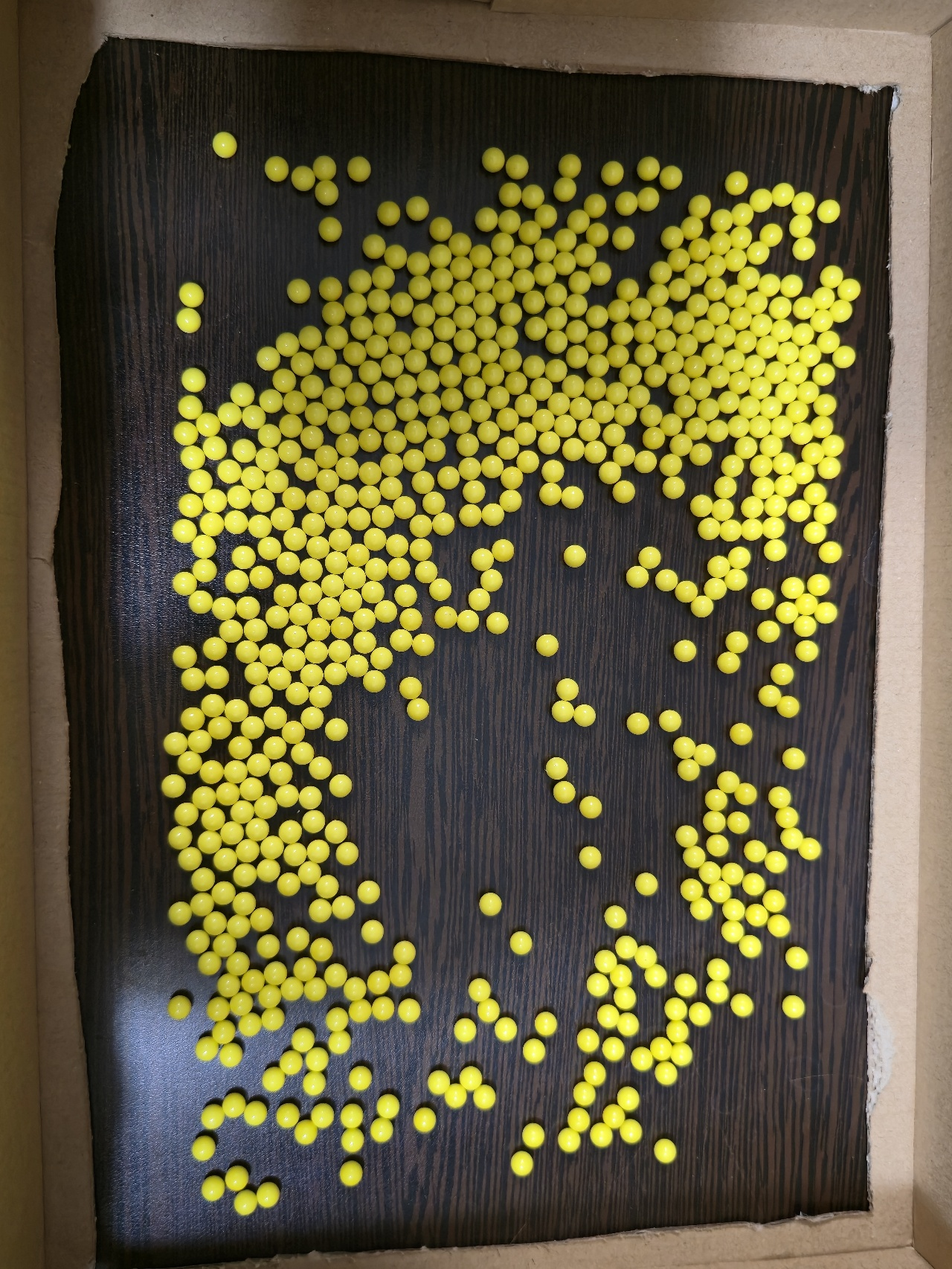yellow_bead: (184, 288, 198, 302), (193, 475, 207, 488), (223, 465, 237, 478), (478, 1090, 490, 1105), (354, 1072, 367, 1085), (311, 1053, 324, 1066), (744, 940, 757, 953), (219, 853, 232, 866), (237, 551, 250, 564), (257, 494, 270, 507), (233, 491, 246, 504), (340, 489, 353, 502), (247, 472, 260, 485), (261, 453, 274, 466), (223, 408, 236, 421), (184, 401, 197, 414), (236, 388, 249, 401), (516, 1157, 528, 1171), (317, 1109, 329, 1123), (433, 1076, 445, 1090), (528, 1044, 540, 1058), (608, 1042, 620, 1056), (403, 1004, 415, 1018), (802, 843, 816, 855), (194, 596, 208, 608), (178, 524, 192, 536), (208, 495, 222, 507), (208, 442, 222, 454), (563, 1134, 575, 1147), (382, 1100, 394, 1113), (465, 1072, 477, 1085), (297, 1034, 309, 1047), (622, 1018, 634, 1031), (788, 1000, 800, 1013), (711, 986, 724, 998), (680, 979, 692, 992), (592, 979, 604, 992), (330, 969, 342, 982), (363, 886, 375, 899), (747, 878, 760, 890), (197, 873, 210, 885), (184, 852, 196, 865), (312, 845, 324, 858), (174, 832, 187, 844), (284, 826, 297, 838), (167, 780, 180, 792), (274, 768, 287, 780), (253, 759, 266, 771), (268, 742, 281, 754), (269, 712, 282, 724), (211, 671, 223, 684), (250, 667, 263, 679), (310, 646, 323, 658), (787, 582, 800, 594), (231, 575, 243, 588), (198, 565, 211, 577), (254, 520, 266, 533), (205, 518, 218, 530), (329, 511, 342, 523), (187, 451, 200, 463), (263, 430, 276, 442), (179, 427, 191, 440), (837, 351, 850, 363), (816, 315, 829, 327), (794, 220, 807, 232), (660, 1144, 671, 1158), (460, 1024, 471, 1038), (603, 1010, 614, 1024), (778, 188, 789, 202), (670, 1003, 682, 1015), (349, 983, 361, 995), (650, 971, 662, 983), (791, 952, 803, 964), (640, 951, 652, 963), (515, 937, 527, 949), (315, 905, 327, 917), (769, 895, 781, 907), (217, 887, 229, 899), (686, 884, 698, 896), (321, 881, 333, 893), (289, 849, 301, 861), (242, 845, 254, 857), (266, 841, 278, 853), (308, 815, 320, 827), (281, 790, 293, 802), (178, 651, 190, 663), (265, 649, 277, 661), (225, 625, 237, 637), (358, 614, 370, 626), (295, 608, 307, 620), (305, 564, 317, 576), (770, 544, 782, 556), (198, 540, 210, 552), (289, 533, 301, 545), (307, 518, 319, 530), (428, 497, 440, 509), (385, 482, 397, 494), (271, 475, 283, 487), (300, 463, 312, 475), (727, 460, 739, 472), (740, 442, 752, 454), (827, 440, 839, 452), (306, 431, 318, 443), (483, 426, 495, 438), (265, 395, 277, 407), (797, 197, 809, 209), (528, 1128, 539, 1141), (623, 1092, 634, 1105), (637, 1053, 648, 1066), (583, 1034, 594, 1047), (695, 1008, 706, 1021), (621, 941, 632, 954), (367, 925, 378, 938), (226, 827, 239, 838), (245, 783, 258, 794), (330, 724, 343, 735), (304, 588, 317, 599), (812, 579, 825, 590), (334, 534, 347, 545), (808, 527, 821, 538), (276, 513, 289, 524), (321, 475, 334, 486), (817, 369, 830, 380), (823, 205, 834, 218), (756, 194, 767, 207), (786, 834, 800, 844), (249, 624, 263, 634), (190, 373, 200, 387), (268, 1075, 279, 1087), (661, 1068, 672, 1080), (286, 1059, 298, 1070), (225, 1051, 237, 1062), (541, 1018, 552, 1030), (267, 1015, 279, 1026), (331, 1015, 343, 1026), (474, 984, 485, 996), (286, 983, 297, 995), (232, 958, 244, 969), (600, 955, 611, 967), (263, 940, 274, 952), (774, 920, 785, 932), (610, 911, 621, 923), (175, 907, 186, 919), (338, 901, 349, 913), (485, 898, 496, 910), (238, 897, 250, 908), (641, 878, 652, 890), (239, 870, 251, 881), (728, 868, 739, 880), (771, 856, 782, 868), (750, 846, 762, 857), (330, 826, 341, 838), (236, 806, 248, 817), (260, 801, 272, 812), (774, 792, 786, 803), (335, 780, 347, 791), (230, 765, 241, 777), (551, 762, 562, 774), (315, 762, 326, 774), (297, 748, 309, 759), (679, 742, 690, 754), (306, 713, 318, 724), (579, 710, 591, 721), (231, 704, 242, 716), (315, 691, 327, 702), (255, 690, 267, 701), (352, 660, 363, 672), (376, 652, 387, 664), (358, 637, 370, 648), (289, 631, 301, 642), (763, 626, 775, 637), (271, 611, 283, 622), (323, 603, 335, 614), (757, 594, 769, 605), (327, 580, 339, 591), (255, 571, 267, 582), (330, 557, 342, 568), (477, 554, 489, 565), (825, 547, 837, 558), (369, 533, 381, 544), (353, 513, 365, 524), (377, 510, 389, 521), (488, 509, 499, 521), (793, 505, 805, 516), (747, 502, 759, 513), (399, 501, 410, 513), (469, 486, 480, 498), (364, 467, 376, 478), (464, 463, 475, 475), (756, 460, 767, 472), (409, 454, 420, 466), (283, 446, 295, 457), (239, 445, 251, 456), (765, 440, 777, 451), (544, 437, 555, 449), (608, 429, 620, 440), (816, 422, 828, 433), (248, 411, 260, 422), (791, 406, 803, 417), (521, 399, 532, 411), (780, 387, 792, 398), (792, 367, 803, 379), (771, 367, 782, 379), (297, 358, 308, 370), (783, 347, 794, 359), (282, 339, 294, 350), (823, 336, 834, 348), (835, 306, 847, 317), (774, 302, 786, 313), (817, 292, 829, 303), (843, 284, 855, 295), (786, 280, 797, 292), (766, 229, 777, 241), (199, 791, 209, 804), (819, 508, 832, 518), (223, 981, 234, 992), (713, 964, 724, 975), (209, 918, 220, 929), (728, 904, 739, 915), (263, 865, 274, 876), (585, 852, 596, 863), (713, 840, 724, 851), (681, 831, 692, 842), (699, 749, 710, 760), (633, 718, 644, 729), (557, 706, 568, 717), (765, 690, 776, 701), (292, 688, 303, 699), (562, 684, 573, 695), (542, 640, 553, 651), (732, 637, 743, 648), (800, 621, 811, 632), (492, 617, 503, 628), (463, 615, 474, 626), (681, 586, 692, 597), (710, 583, 721, 594), (661, 575, 672, 586), (731, 574, 742, 585), (632, 571, 643, 582), (734, 552, 745, 563), (747, 524, 758, 535), (704, 523, 715, 534), (185, 499, 196, 510), (567, 492, 578, 503), (364, 491, 375, 502), (669, 482, 680, 493), (443, 472, 454, 483), (605, 467, 616, 478), (342, 463, 353, 474), (386, 459, 397, 470), (640, 456, 651, 467), (619, 449, 630, 460), (503, 443, 514, 454), (390, 436, 401, 447), (797, 428, 808, 439), (520, 428, 531, 439), (584, 424, 595, 435), (777, 421, 788, 432), (312, 408, 323, 419), (598, 406, 609, 417), (713, 371, 724, 382), (336, 370, 347, 381), (263, 353, 274, 364), (777, 325, 788, 336), (374, 295, 385, 306), (764, 280, 775, 291), (826, 271, 837, 282), (309, 983, 321, 993), (399, 946, 409, 958), (292, 933, 304, 943), (727, 928, 739, 938), (695, 905, 707, 915), (196, 899, 208, 909), (283, 878, 295, 888), (341, 847, 353, 857), (207, 699, 219, 709), (368, 675, 380, 685), (187, 673, 199, 683), (274, 672, 286, 682), (288, 654, 300, 664), (802, 646, 814, 656), (334, 646, 346, 656), (242, 646, 254, 656), (395, 634, 407, 644), (820, 608, 832, 618), (349, 572, 361, 582), (391, 540, 403, 550), (415, 520, 427, 530), (770, 501, 782, 511), (288, 492, 300, 502), (418, 476, 428, 488), (823, 463, 835, 473), (569, 443, 579, 455), (463, 439, 473, 451), (576, 402, 586, 414), (724, 396, 734, 408), (278, 375, 290, 385), (485, 1005, 494, 1018), (203, 837, 216, 846), (169, 738, 182, 747), (193, 736, 206, 745), (246, 722, 259, 731), (218, 605, 231, 614), (186, 314, 195, 327), (222, 139, 231, 152), (178, 582, 192, 590), (347, 1137, 358, 1147), (596, 1132, 607, 1142), (677, 1050, 687, 1061), (245, 1020, 255, 1031), (620, 993, 631, 1003), (299, 963, 309, 974), (193, 936, 204, 946), (715, 887, 726, 897), (705, 867, 715, 878), (689, 852, 700, 862), (585, 802, 596, 812), (724, 777, 734, 788), (789, 754, 800, 764), (665, 716, 676, 726), (405, 682, 416, 692), (777, 669, 788, 679), (680, 646, 691, 656), (697, 601, 708, 611), (435, 584, 446, 594), (486, 575, 497, 585), (421, 566, 432, 576), (713, 562, 724, 572), (727, 525, 737, 536), (768, 523, 779, 533), (718, 504, 728, 515), (505, 495, 516, 505), (545, 488, 556, 498), (758, 483, 769, 493), (720, 482, 731, 492), (506, 472, 517, 482), (488, 461, 498, 472), (666, 460, 677, 470), (523, 456, 533, 467), (591, 446, 601, 457), (429, 444, 440, 454), (692, 423, 702, 434), (733, 421, 744, 431), (287, 420, 297, 431), (538, 414, 549, 424), (744, 402, 755, 412), (425, 399, 435, 410), (555, 398, 565, 409), (803, 387, 814, 397), (568, 381, 579, 391), (411, 355, 421, 366), (305, 333, 316, 343), (798, 329, 808, 340), (460, 311, 471, 321), (480, 298, 490, 309), (675, 284, 685, 295), (736, 232, 747, 242), (738, 208, 748, 219), (198, 1146, 210, 1155), (576, 1114, 585, 1126), (346, 1113, 358, 1122), (239, 998, 248, 1010), (618, 970, 627, 982), (303, 870, 315, 879), (251, 826, 263, 835), (304, 795, 316, 804), (184, 756, 196, 765), (235, 742, 247, 751), (230, 519, 242, 528), (547, 466, 559, 475), (412, 425, 421, 437), (765, 341, 774, 353), (208, 643, 221, 651), (282, 561, 295, 569), (263, 546, 276, 554), (379, 1003, 389, 1013), (270, 968, 280, 978), (233, 922, 243, 932), (734, 817, 744, 827), (710, 817, 720, 827), (438, 518, 448, 528), (697, 501, 707, 511), (781, 481, 791, 491), (676, 440, 686, 450), (334, 417, 344, 427), (647, 410, 657, 420), (403, 404, 413, 414), (320, 352, 330, 362), (481, 321, 491, 331), (572, 300, 582, 310), (351, 299, 361, 309), (644, 195, 654, 205), (222, 940, 231, 951), (257, 913, 268, 922), (181, 808, 192, 817), (808, 449, 819, 458), (714, 425, 723, 436), (756, 421, 765, 432), (562, 420, 571, 431), (636, 391, 645, 402), (538, 383, 547, 394), (309, 381, 318, 392), (402, 380, 411, 391), (425, 376, 434, 387), (389, 360, 398, 371), (438, 347, 447, 358), (419, 332, 428, 343), (721, 330, 730, 341), (701, 325, 710, 336), (693, 300, 704, 309), (753, 297, 762, 308), (733, 290, 742, 301), (745, 272, 754, 283), (298, 174, 309, 183), (579, 1091, 591, 1099), (592, 1068, 600, 1080), (500, 1023, 512, 1031), (754, 910, 762, 922), (207, 813, 219, 821), (214, 722, 226, 730), (306, 673, 318, 681), (723, 658, 735, 666), (280, 589, 292, 597), (312, 545, 324, 553), (204, 958, 214, 967), (785, 813, 794, 823), (206, 765, 216, 774), (684, 765, 694, 774), (441, 611, 451, 620), (803, 599, 812, 609), (416, 544, 425, 554), (620, 486, 629, 496), (698, 449, 707, 459), (457, 417, 466, 427), (329, 393, 339, 402), (495, 392, 504, 402), (614, 388, 623, 398), (730, 355, 739, 365), (486, 345, 495, 355), (442, 324, 451, 334), (358, 322, 367, 332), (659, 312, 668, 322), (715, 308, 724, 318), (637, 303, 646, 313), (295, 286, 304, 296), (733, 254, 742, 264), (437, 250, 446, 260), (620, 232, 629, 242), (718, 215, 727, 225), (271, 164, 281, 173), (395, 971, 406, 979), (744, 788, 752, 799), (287, 727, 298, 735), (394, 563, 405, 571), (353, 549, 364, 557), (498, 544, 509, 552), (465, 510, 476, 518), (321, 451, 332, 459), (623, 408, 631, 419), (289, 399, 300, 407), (743, 336, 751, 347), (334, 331, 342, 342), (554, 313, 562, 324), (312, 499, 324, 506), (675, 1028, 684, 1037), (785, 701, 794, 710), (245, 605, 254, 614), (675, 379, 684, 388), (652, 370, 661, 379), (596, 268, 605, 277), (506, 216, 515, 225), (696, 201, 705, 210), (379, 1127, 387, 1137), (267, 992, 275, 1002), (313, 623, 323, 631), (406, 614, 416, 622), (570, 554, 580, 562), (344, 439, 352, 449), (436, 421, 444, 431), (205, 418, 213, 428), (382, 415, 390, 425), (478, 405, 486, 415), (381, 387, 389, 397), (698, 383, 706, 393), (628, 370, 636, 380), (554, 365, 562, 375), (710, 349, 718, 359), (663, 335, 671, 345), (594, 311, 602, 321), (441, 298, 449, 308), (358, 1007, 365, 1018), (222, 788, 233, 795), (782, 611, 793, 618), (474, 598, 485, 605), (400, 594, 411, 601), (644, 556, 655, 563), (707, 404, 714, 415), (369, 366, 376, 377), (671, 356, 678, 367), (576, 351, 583, 362), (482, 274, 489, 285), (694, 269, 701, 280), (319, 943, 327, 952), (380, 610, 392, 616), (370, 568, 382, 574), (669, 420, 677, 429), (737, 377, 745, 386), (531, 362, 539, 371), (595, 361, 603, 370), (533, 323, 541, 332), (681, 317, 689, 326), (738, 313, 746, 322), (509, 309, 517, 318), (655, 290, 663, 299), (522, 275, 530, 284), (440, 275, 448, 284), (658, 267, 666, 276), (178, 1003, 185, 1013), (338, 622, 348, 629), (464, 335, 471, 345), (422, 309, 429, 319), (401, 299, 408, 309), (418, 282, 425, 292), (521, 251, 528, 261), (584, 250, 591, 260), (671, 232, 678, 242), (577, 216, 584, 226), (736, 999, 747, 1005), (556, 336, 562, 347), (739, 729, 747, 737), (371, 590, 379, 598), (593, 383, 601, 391), (504, 333, 512, 341), (358, 277, 366, 285), (610, 168, 618, 176), (267, 1189, 274, 1198), (644, 350, 651, 359), (555, 289, 562, 298), (578, 277, 585, 286), (382, 272, 389, 281), (501, 263, 508, 272), (689, 222, 698, 229), (625, 198, 632, 207), (563, 184, 570, 193), (670, 172, 677, 181), (492, 155, 499, 164), (378, 976, 383, 988), (685, 401, 691, 411), (376, 341, 382, 351), (686, 339, 692, 349), (622, 328, 628, 338), (576, 326, 582, 336), (736, 177, 742, 187), (221, 1030, 228, 1038), (349, 599, 357, 606), (383, 321, 390, 329), (714, 284, 721, 292), (501, 241, 509, 248), (485, 215, 492, 223), (530, 192, 538, 199), (324, 190, 332, 197), (332, 672, 341, 678), (451, 395, 457, 404), (474, 383, 480, 392), (544, 268, 550, 277), (715, 261, 721, 270), (565, 235, 571, 244), (508, 414, 513, 424), (565, 258, 570, 268), (368, 435, 375, 442), (653, 433, 660, 440), (544, 247, 551, 254), (647, 164, 654, 171), (349, 1171, 357, 1177), (629, 1125, 637, 1131), (313, 1079, 321, 1085), (334, 1038, 346, 1042), (510, 355, 516, 363), (464, 288, 470, 296), (395, 252, 401, 260), (450, 373, 457, 379), (399, 340, 405, 347), (645, 327, 651, 334), (418, 259, 424, 266), (373, 242, 379, 249), (416, 205, 422, 212), (358, 166, 364, 173), (614, 1114, 619, 1122), (361, 414, 366, 422), (618, 351, 623, 359), (619, 306, 624, 314), (517, 379, 521, 388), (720, 240, 726, 246), (323, 165, 329, 171), (217, 1006, 222, 1013), (357, 390, 362, 397), (696, 362, 701, 369), (534, 298, 539, 305), (628, 285, 633, 292), (679, 254, 684, 261), (546, 212, 551, 219), (253, 976, 257, 984), (471, 361, 476, 367), (332, 311, 338, 316), (460, 242, 466, 247), (329, 227, 335, 232), (596, 201, 600, 208), (518, 163, 522, 170), (716, 800, 721, 805), (494, 373, 499, 378), (597, 340, 602, 345), (330, 286, 335, 291), (462, 266, 467, 271), (564, 793, 570, 797), (572, 162, 576, 168), (663, 1047, 666, 1054), (505, 287, 508, 294), (425, 643, 429, 648), (511, 192, 516, 196), (240, 1198, 246, 1201), (356, 350, 359, 356), (599, 231, 602, 237), (532, 230, 536, 234), (248, 1201, 251, 1206), (418, 710, 423, 713), (702, 248, 705, 253), (443, 227, 446, 232), (798, 305, 800, 312), (201, 1046, 207, 1048), (808, 350, 814, 352), (760, 320, 766, 322), (483, 253, 486, 257), (803, 243, 809, 245), (208, 1113, 213, 1115), (428, 1117, 431, 1120), (819, 406, 821, 409), (805, 351, 808, 353), (390, 212, 392, 215), (814, 489, 819, 490), (800, 468, 805, 469), (783, 458, 787, 459), (824, 399, 827, 400), (759, 382, 762, 383), (753, 361, 756, 362), (798, 248, 799, 251), (292, 1117, 293, 1119), (218, 1117, 219, 1119), (210, 1051, 211, 1053), (209, 1048, 210, 1050), (747, 1006, 748, 1008), (413, 708, 414, 710), (809, 493, 810, 495), (804, 302, 806, 303), (218, 1190, 219, 1191), (208, 1186, 209, 1187), (257, 1111, 258, 1112), (251, 1111, 252, 1112), (800, 843, 801, 844), (559, 791, 560, 792), (415, 710, 416, 711), (423, 708, 424, 709), (347, 601, 348, 602), (345, 599, 346, 600), (197, 545, 198, 546), (821, 493, 822, 494), (812, 489, 813, 490), (808, 471, 809, 472), (757, 383, 758, 384), (766, 323, 767, 324), (802, 313, 803, 314), (809, 303, 810, 304), (799, 252, 800, 253), (809, 246, 810, 247), (799, 246, 800, 247), (801, 244, 802, 245), (225, 138, 226, 139), (247, 1201, 248, 1201), (217, 1189, 218, 1189), (208, 1047, 208, 1048), (747, 1004, 747, 1005), (242, 606, 242, 607), (820, 492, 821, 492), (810, 492, 811, 492), (771, 402, 772, 402), (759, 364, 760, 364), (757, 362, 758, 362), (758, 321, 759, 321), (222, 138, 225, 138)
